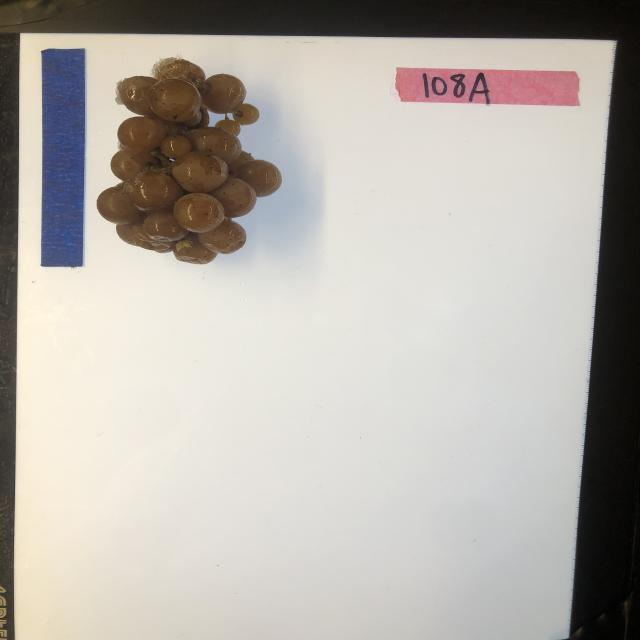grape_cluster: (94, 55, 284, 264)
index: (394, 66, 582, 108)
measure_label: (40, 46, 86, 270)
